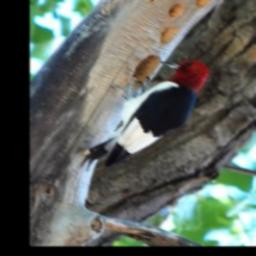Woodpecker: (76, 58, 207, 171)
